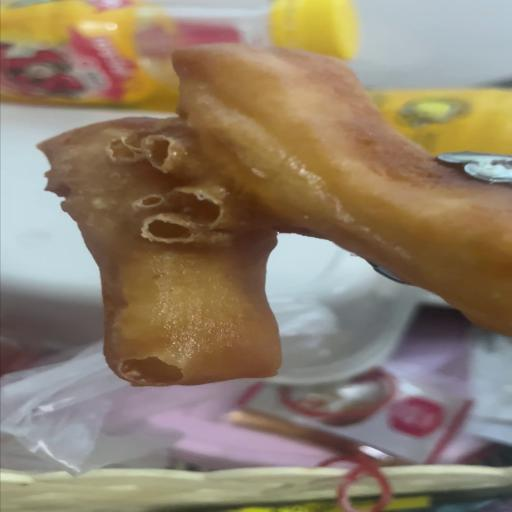street_burnt_defect: (39, 44, 512, 385)
